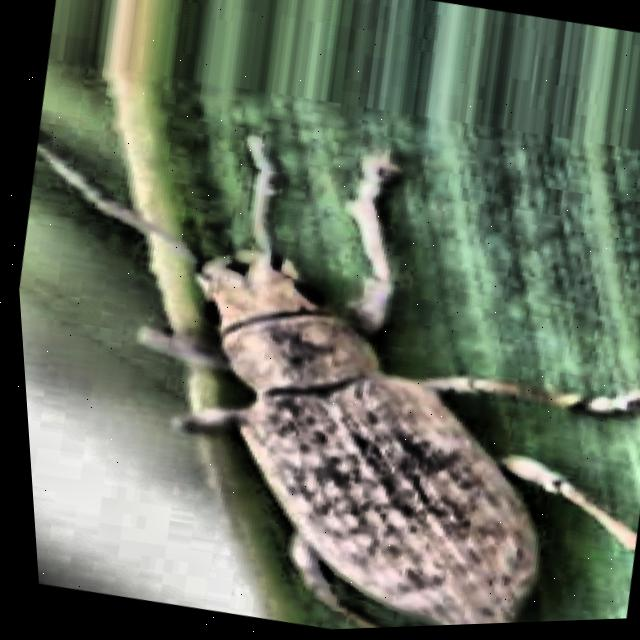Stink bug: (10, 178, 640, 640)
